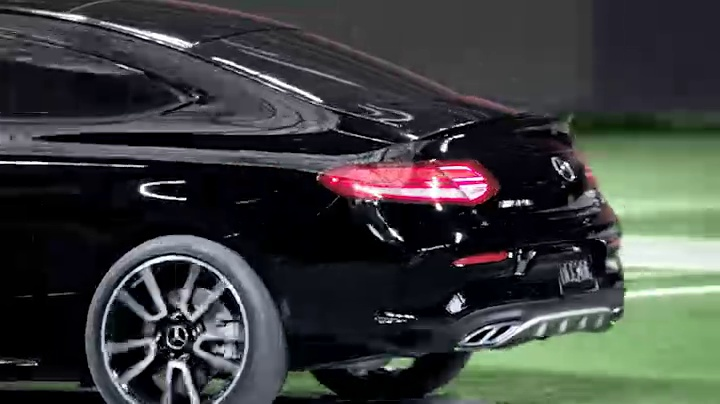amg: (1, 3, 626, 400)
